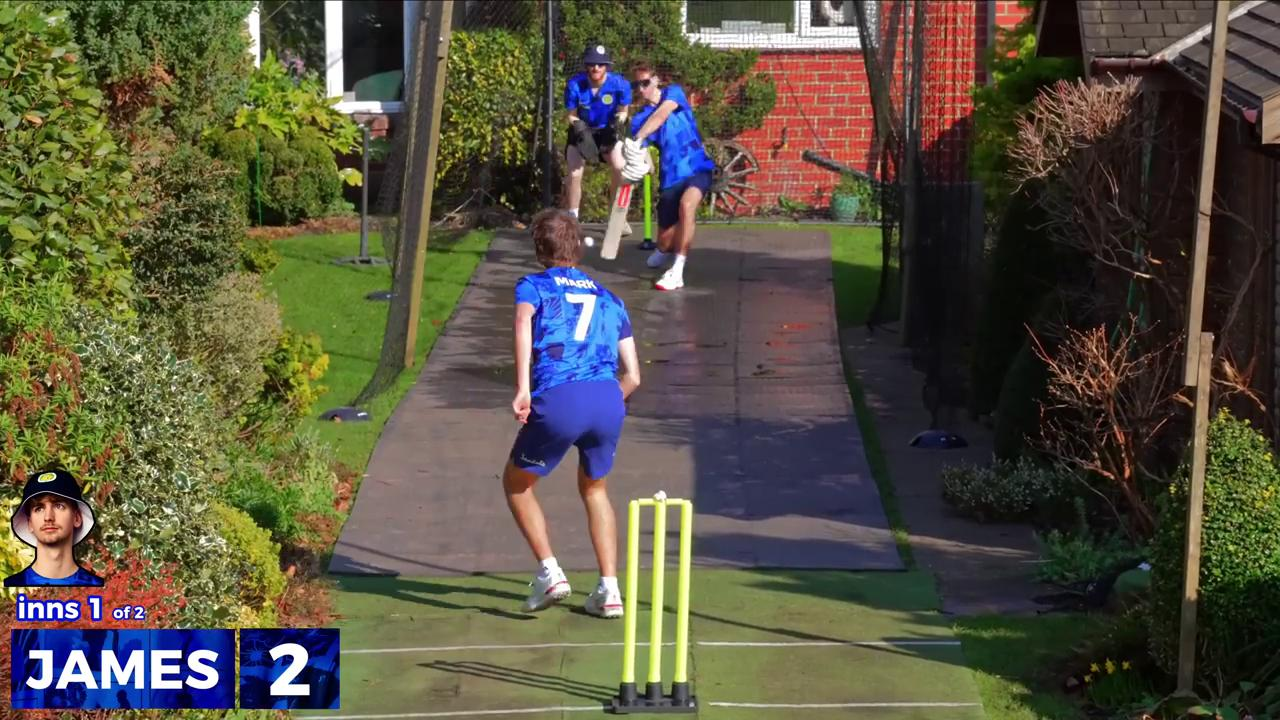ball: (583, 234, 594, 249)
